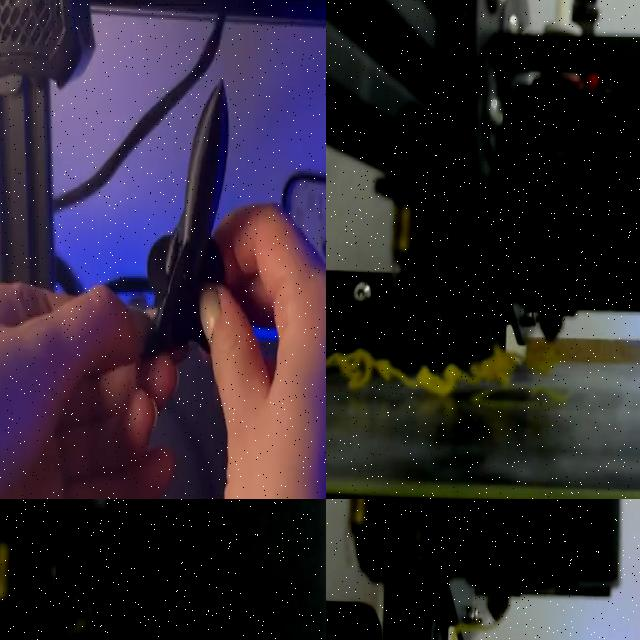spaghetti: (326, 346, 521, 396), (524, 341, 560, 374)
